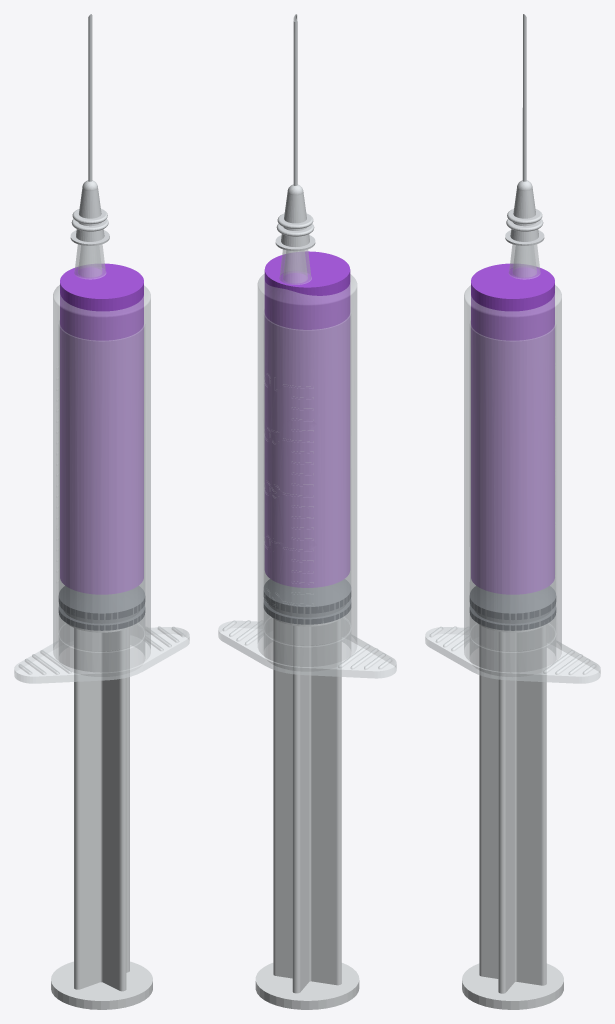
Rendered from syringe-purple.glb.
3 renders of one model, left to right at view 1: azimuth 30°, elevation 25°; view 2: azimuth 150°, elevation 25°; view 3: azimuth 330°, elevation 25°, orthographic.
Parts seen in each view (by area): view 1: barrel, drug, plunger, rubber, needle; view 2: barrel, drug, plunger, rubber, needle; view 3: barrel, drug, plunger, rubber, needle.
Part boxes in pixels (box(x1,y1,x2,y2)): barrel: box(14, 244, 189, 683); drug: box(60, 263, 143, 594); plunger: box(51, 624, 152, 1009); rubber: box(58, 586, 145, 630); needle: box(70, 14, 109, 245); barrel: box(218, 249, 396, 678); drug: box(264, 251, 350, 587); plunger: box(255, 617, 359, 1009); rubber: box(263, 579, 351, 624); needle: box(275, 14, 315, 251); barrel: box(425, 244, 600, 683); drug: box(471, 263, 554, 594); plunger: box(462, 624, 563, 1009); rubber: box(469, 586, 556, 630); needle: box(505, 14, 544, 245).
Bounding box in the file's own units: 50 × 272 × 25.98.
